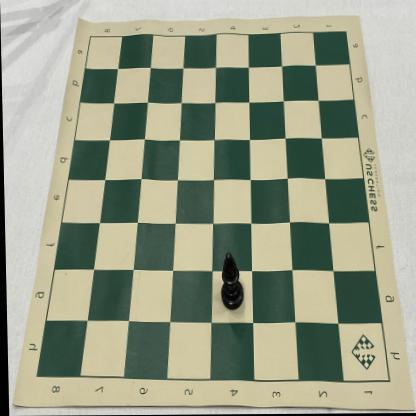black-bishop: (219, 253, 243, 311)
